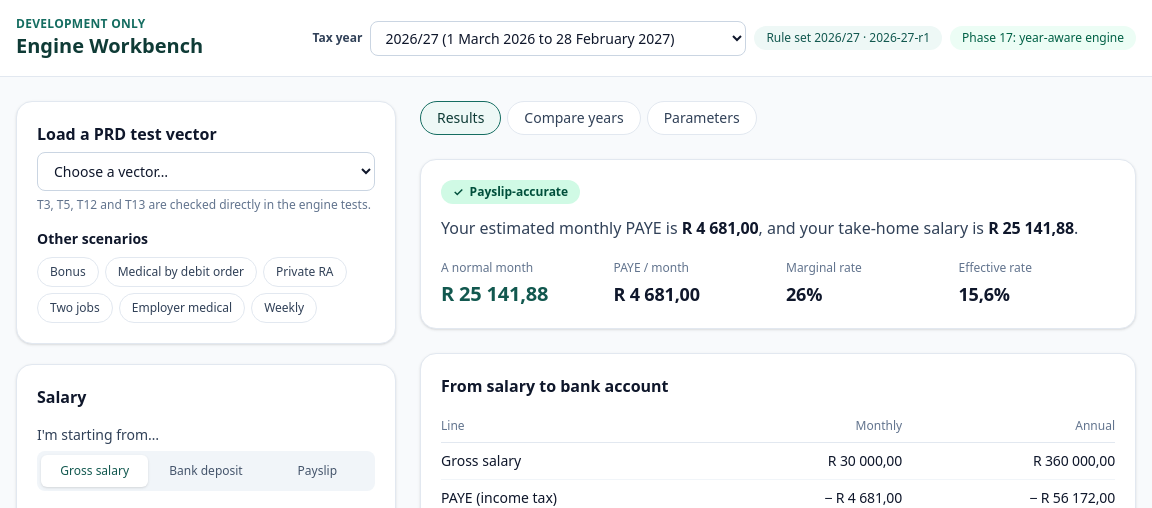
it: Workbench: Parameters › lists the chosen year's values with source links
The image size is (1152, 508).
Step 1. Select "2025/26 (1 March 2025 to 28 February 2026) · Draft" in the dropdown labelled "Tax year" → point(558, 38), box 370,20 -> 746,56
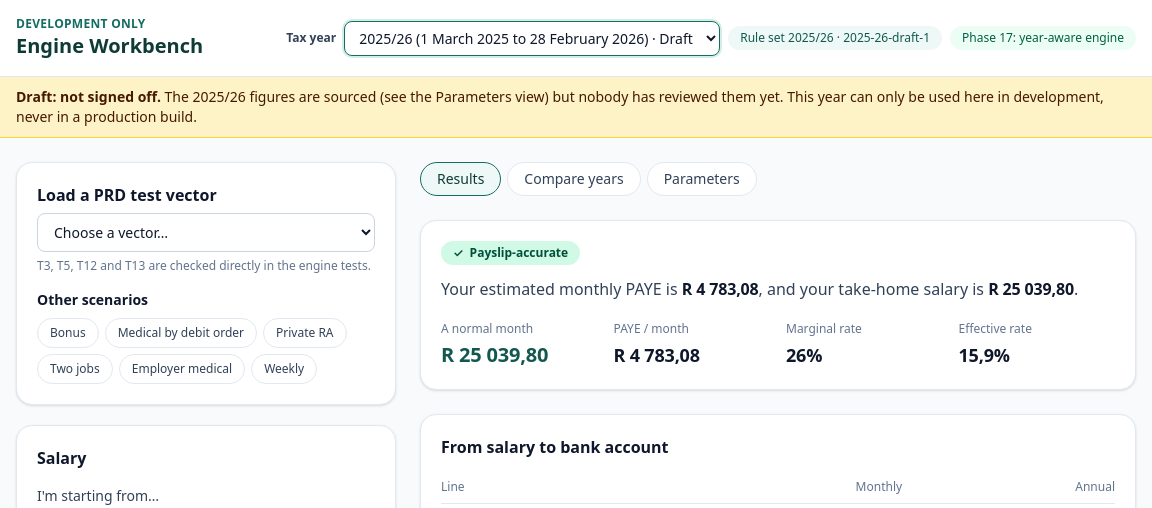
Step 2. Click the tab "Parameters" → point(702, 179), box 647,162 -> 757,196
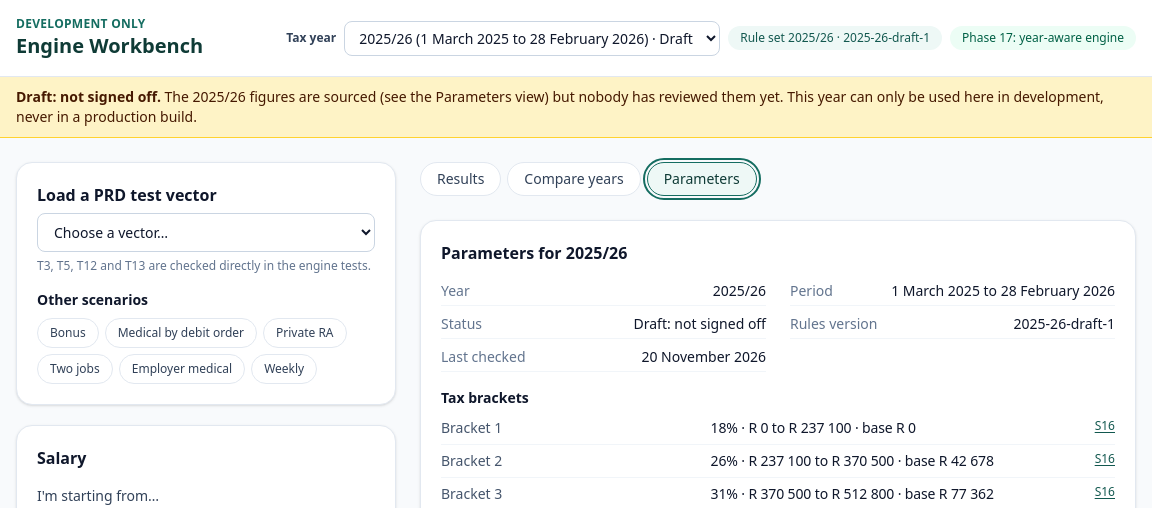
Expected: the text "Draft: not signed off" is shown, 634,314 -> 766,334
Expected: the heading "Parameters for 2025/26" is shown, 441,242 -> 627,264
